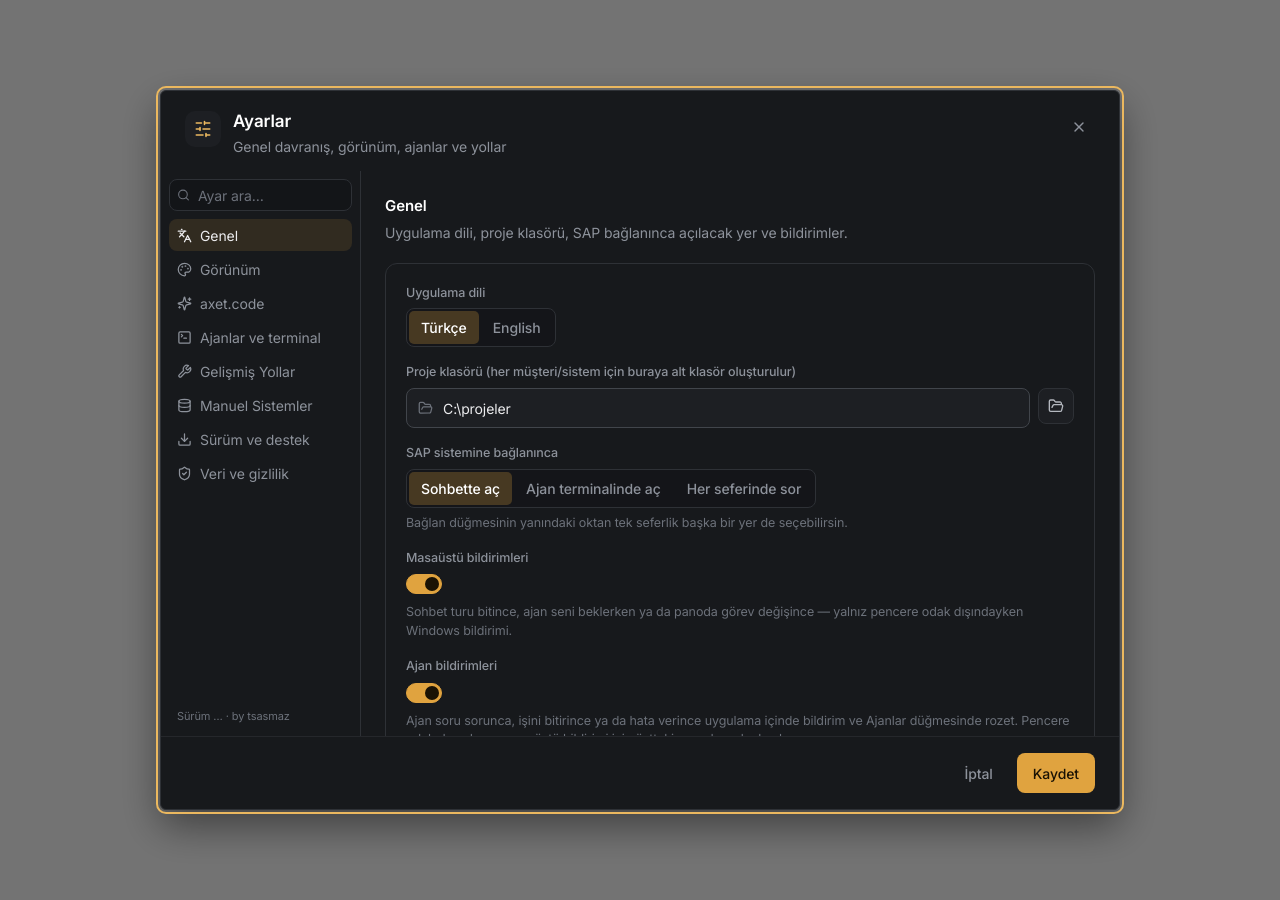
Ayarlar — iki sütun › otomatik denetim bir anahtar
Click the tab "Sürüm ve destek" at (260, 439), box [169, 423, 352, 455]
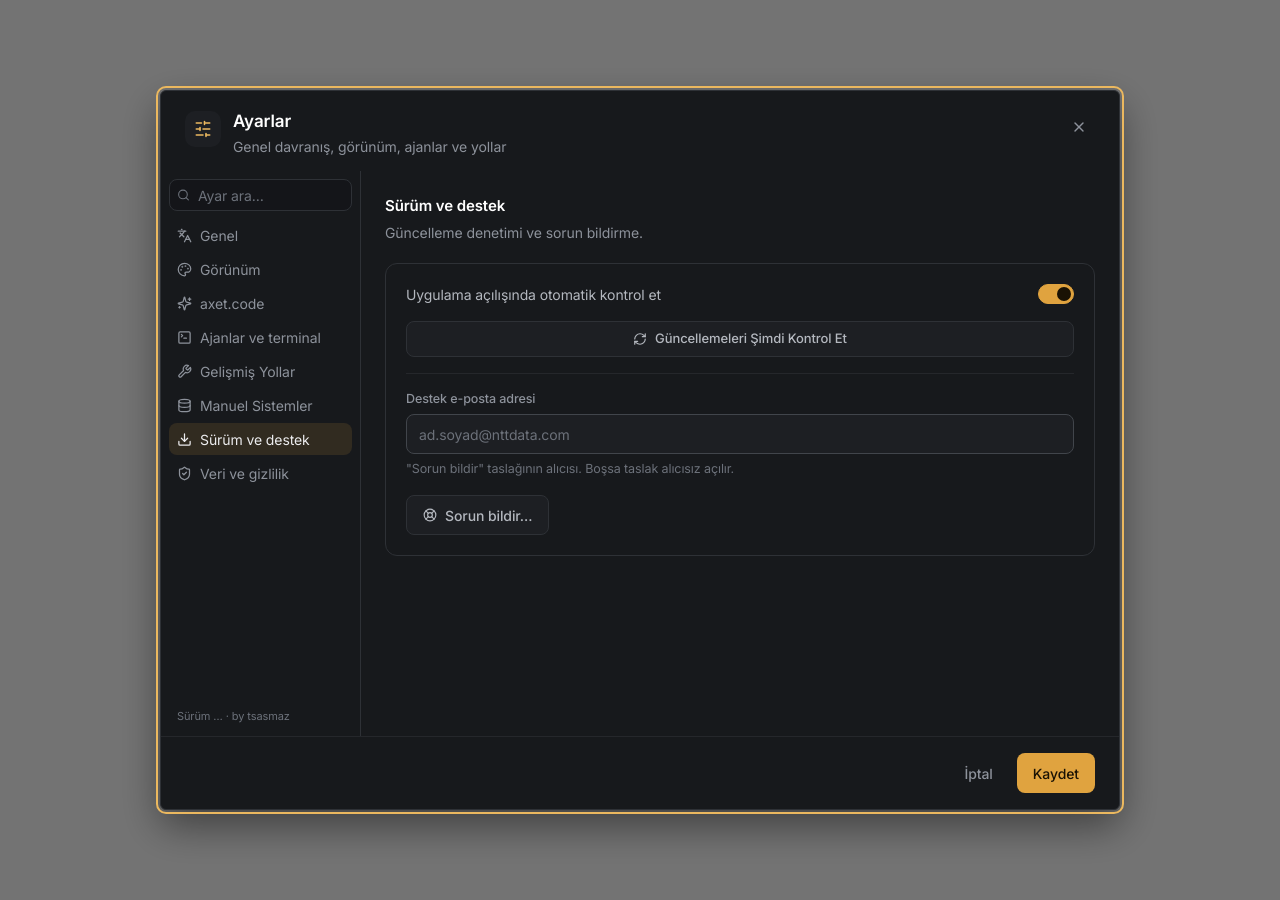
Click the switch named "Uygulama açılışında otomatik kontrol et" at (1056, 294), box [1038, 284, 1074, 304]
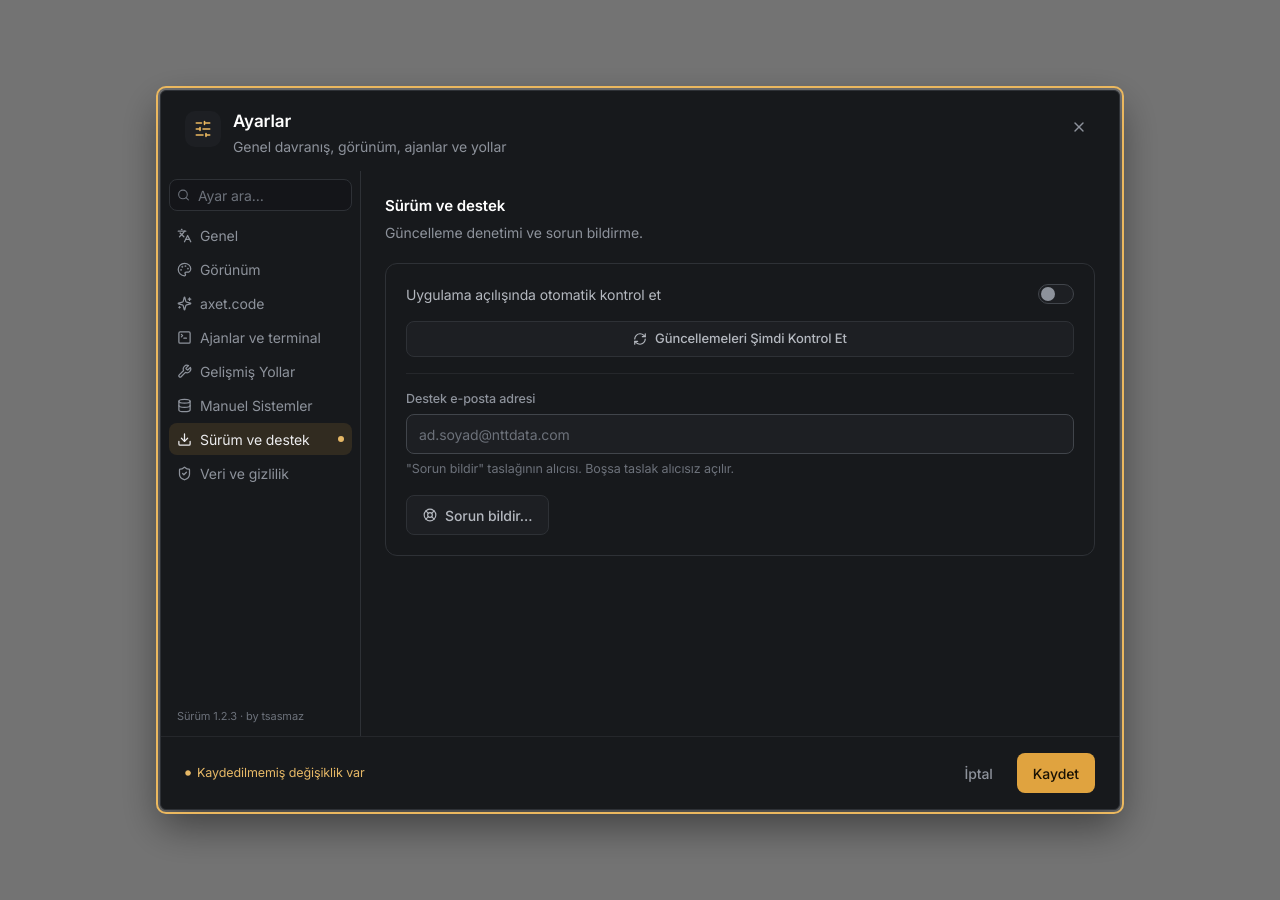
Result: the text "Kaydedilmemiş değişiklik var" is shown at [185, 764, 364, 782]
